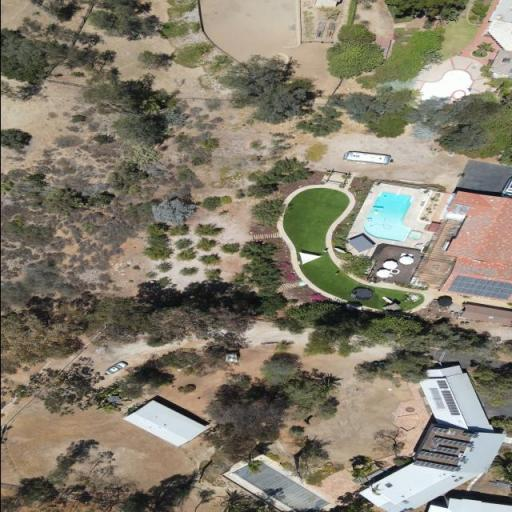solar-panel: (447, 276, 512, 300), (413, 460, 461, 472), (418, 451, 465, 462), (440, 390, 460, 415), (431, 438, 474, 448), (435, 447, 459, 454), (435, 380, 448, 389), (431, 427, 449, 433), (460, 433, 480, 438), (508, 67, 512, 73)
